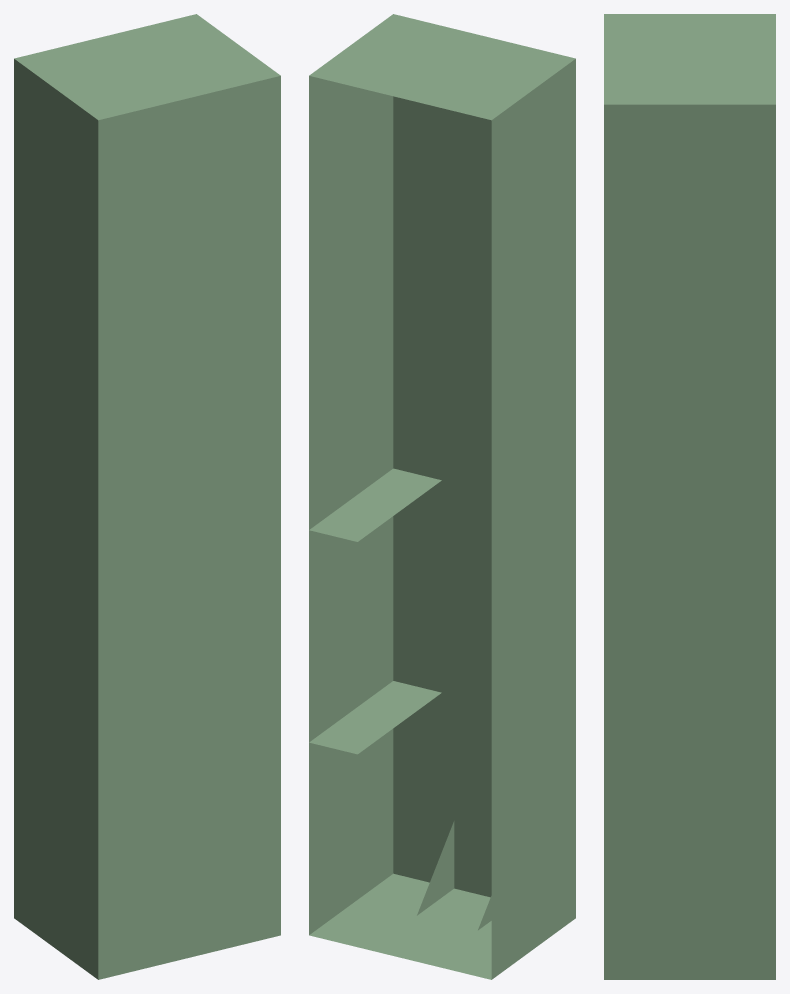
File: EFP_ROOM.glb
3 renders of one model, left to right at view 1: azimuth 30°, elevation 25°; view 2: azimuth 150°, elevation 25°; view 3: azimuth 270°, elevation 25°, orthographic.
Visible parts, largest first — view 1: PL_No2SectionxAPTS_003005-11_NVA_1993, PL_No2SectionxAPTS_003002-11_NVA_1993, PL_TransxFR10S_007002-13.5_NVA_1993, PL_No2SectionxAPTS_001001-12_NVA_1993, PL_No2SectionxAPTS_002002-11_NVA_1993, PL_No2SectionxAPTS_001003-12_NVA_1993, PL_TransxFR10S_009001-13.5_NVA_1993, PL_TransxFR10S_008002-13.5_NVA_1993, PL_No2SectionxAPTS_003001-11_NVA_1993, PL_TransxFR10S_007001-13.5_NVA_1993, PL_No2SectionxAPTS_002006-11_NVA_1993, PL_No2SectionxAPTS_002005-11_NVA_1993 (+5 smaller); view 2: PL_No2SectionxAPTS_003005-11_NVA_1993, PL_TransxFR10S_007002-13.5_NVA_1993, PL_TransBHDxBHD13S_005002-11_NVA_1993, PL_TransBHDxBHD13S_004002-11_NVA_1993, PL_TransxFR10S_009001-13.5_NVA_1993, PL_No2SectionxAPTS_001003-12_NVA_1993, PL_TransxFR10S_008002-13.5_NVA_1993, PL_TransBHDxBHD13S_007001-13.5_NVA_1993, PL_TransxFR10S_007001-13.5_NVA_1993, PL_No2SectionxAPTS_002006-11_NVA_1993, PL_TransBHDxBHD13S_006002-13.5_NVA_1993, PL_TankTopxAPTS_012001-12.5_NVA36_2014 (+15 smaller); view 3: PL_TransBHDxBHD13S_004002-11_NVA_1993, PL_TransBHDxBHD13S_005002-11_NVA_1993, PL_TransBHDxBHD13S_007001-13.5_NVA_1993, PL_TransBHDxBHD13S_006001-13.5_NVA_1993, PL_TransBHDxBHD13S_006002-13.5_NVA_1993, PL_TankTopxAPTS_012001-12.5_NVA36_2014, PL_TankTopxAPTS_006006-12.5_NVA_1993, PL_TankTopxAPTS_012003-12.5_NVA36_2014.
Part boxes in pixels (bbox=[...]): PL_No2SectionxAPTS_003005-11_NVA_1993: bbox=[195, 76, 280, 550]; PL_No2SectionxAPTS_003002-11_NVA_1993: bbox=[98, 228, 195, 574]; PL_TransxFR10S_007002-13.5_NVA_1993: bbox=[14, 190, 98, 574]; PL_No2SectionxAPTS_001001-12_NVA_1993: bbox=[98, 763, 195, 979]; PL_No2SectionxAPTS_002002-11_NVA_1993: bbox=[98, 593, 195, 786]; PL_No2SectionxAPTS_001003-12_NVA_1993: bbox=[195, 742, 280, 955]; PL_TransxFR10S_009001-13.5_NVA_1993: bbox=[14, 725, 98, 979]; PL_TransxFR10S_008002-13.5_NVA_1993: bbox=[14, 556, 98, 786]; PL_No2SectionxAPTS_003001-11_NVA_1993: bbox=[98, 96, 195, 251]; PL_TransxFR10S_007001-13.5_NVA_1993: bbox=[14, 59, 98, 251]; PL_No2SectionxAPTS_002006-11_NVA_1993: bbox=[195, 636, 280, 763]; PL_No2SectionxAPTS_002005-11_NVA_1993: bbox=[195, 530, 280, 656]; PL_No2SectionxAPTS_003005-11_NVA_1993: bbox=[393, 96, 478, 489]; PL_TransxFR10S_007002-13.5_NVA_1993: bbox=[491, 190, 575, 574]; PL_TransBHDxBHD13S_005002-11_NVA_1993: bbox=[309, 256, 393, 529]; PL_TransBHDxBHD13S_004002-11_NVA_1993: bbox=[309, 76, 393, 317]; PL_TransxFR10S_009001-13.5_NVA_1993: bbox=[491, 725, 575, 979]; PL_No2SectionxAPTS_001003-12_NVA_1993: bbox=[393, 693, 478, 894]; PL_TransxFR10S_008002-13.5_NVA_1993: bbox=[491, 556, 575, 786]; PL_TransBHDxBHD13S_007001-13.5_NVA_1993: bbox=[309, 729, 393, 934]; PL_TransxFR10S_007001-13.5_NVA_1993: bbox=[491, 59, 575, 251]; PL_No2SectionxAPTS_002006-11_NVA_1993: bbox=[393, 574, 478, 701]; PL_TransBHDxBHD13S_006002-13.5_NVA_1993: bbox=[309, 575, 393, 742]; PL_TankTopxAPTS_012001-12.5_NVA36_2014: bbox=[394, 35, 575, 120]; PL_TransBHDxBHD13S_004002-11_NVA_1993: bbox=[604, 104, 775, 351]; PL_TransBHDxBHD13S_005002-11_NVA_1993: bbox=[604, 351, 775, 567]; PL_TransBHDxBHD13S_007001-13.5_NVA_1993: bbox=[604, 783, 775, 979]; PL_TransBHDxBHD13S_006001-13.5_NVA_1993: bbox=[604, 567, 775, 675]; PL_TransBHDxBHD13S_006002-13.5_NVA_1993: bbox=[604, 675, 775, 783]; PL_TankTopxAPTS_012001-12.5_NVA36_2014: bbox=[604, 14, 775, 62]; PL_TankTopxAPTS_006006-12.5_NVA_1993: bbox=[604, 74, 775, 104]; PL_TankTopxAPTS_012003-12.5_NVA36_2014: bbox=[604, 62, 775, 74].
Bounding box in the file's own units: 2.25 × 10.12 × 1.8.
